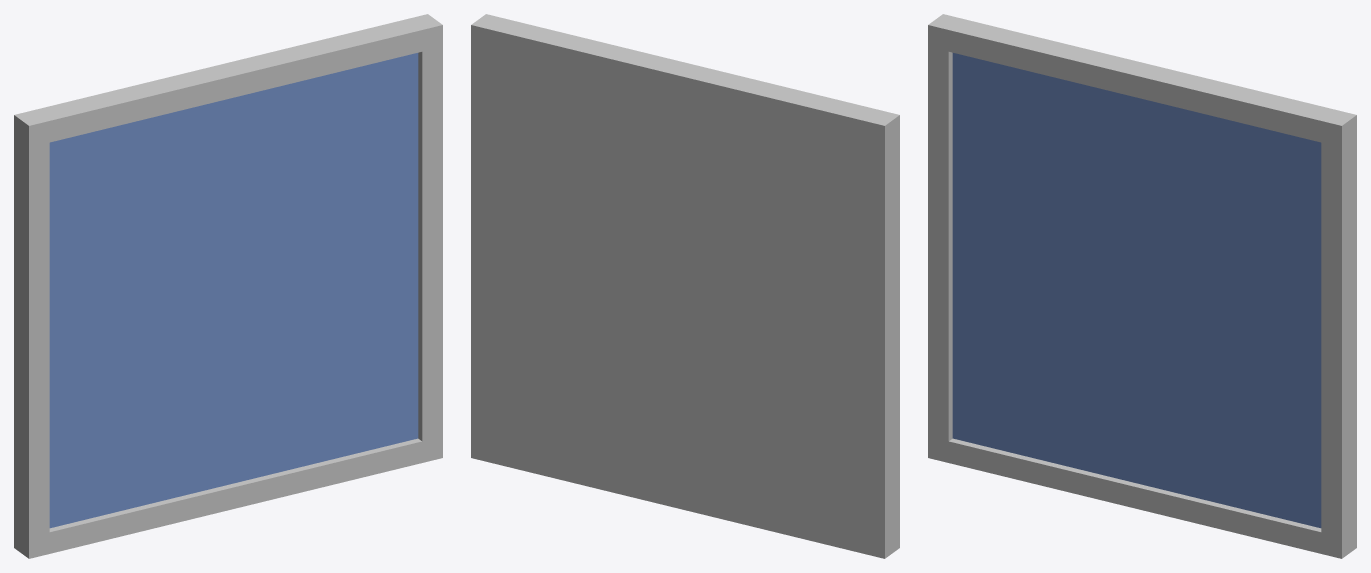
File: Painting_03.fbx
3 renders of one model, left to right at view 1: azimuth 30°, elevation 25°; view 2: azimuth 150°, elevation 25°; view 3: azimuth 330°, elevation 25°, orthographic.
Visible parts, largest first — view 1: Painting_03; view 2: Painting_03; view 3: Painting_03.
Part boxes in pixels (bbox=[...]): Painting_03: bbox=[14, 14, 442, 558]; Painting_03: bbox=[471, 14, 899, 558]; Painting_03: bbox=[928, 14, 1356, 558].
Size of the model in its own units: 50 by 50 by 3.14.
